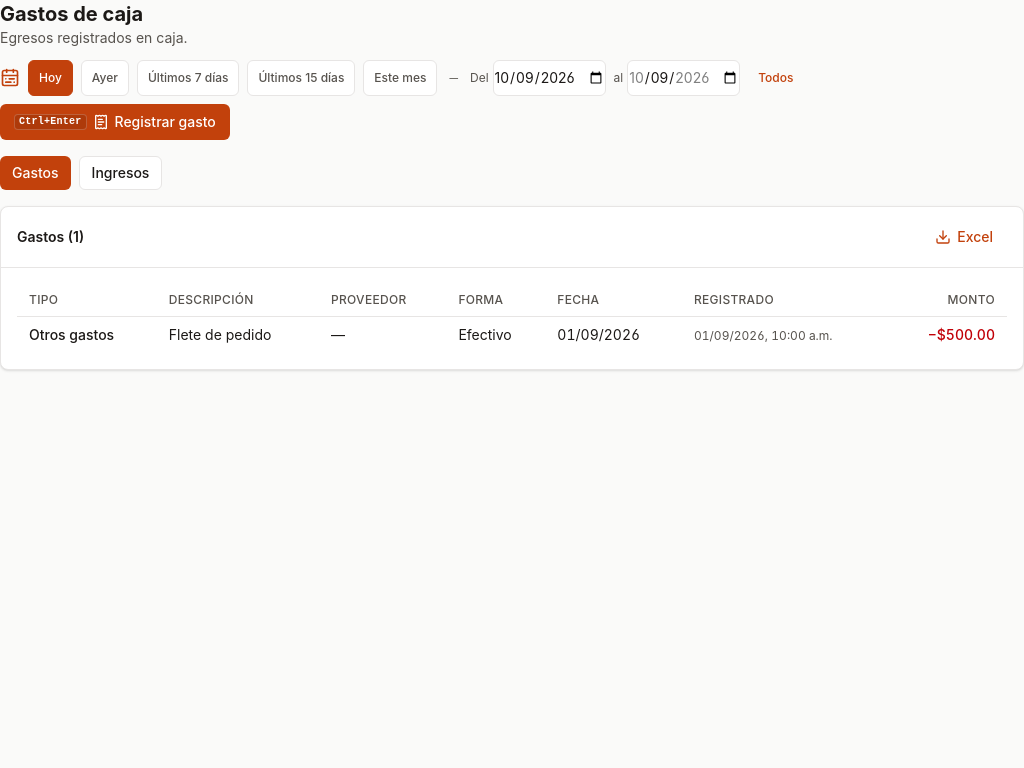
GastosPage (profundización) › valida tipo, monto y descripción del gasto
Expected: the text "Flete de pedido" is shown, [169, 326, 272, 343]
Click the button "Ctrl+Enter Registrar gasto". click: (115, 122)
box: [0, 104, 230, 140]
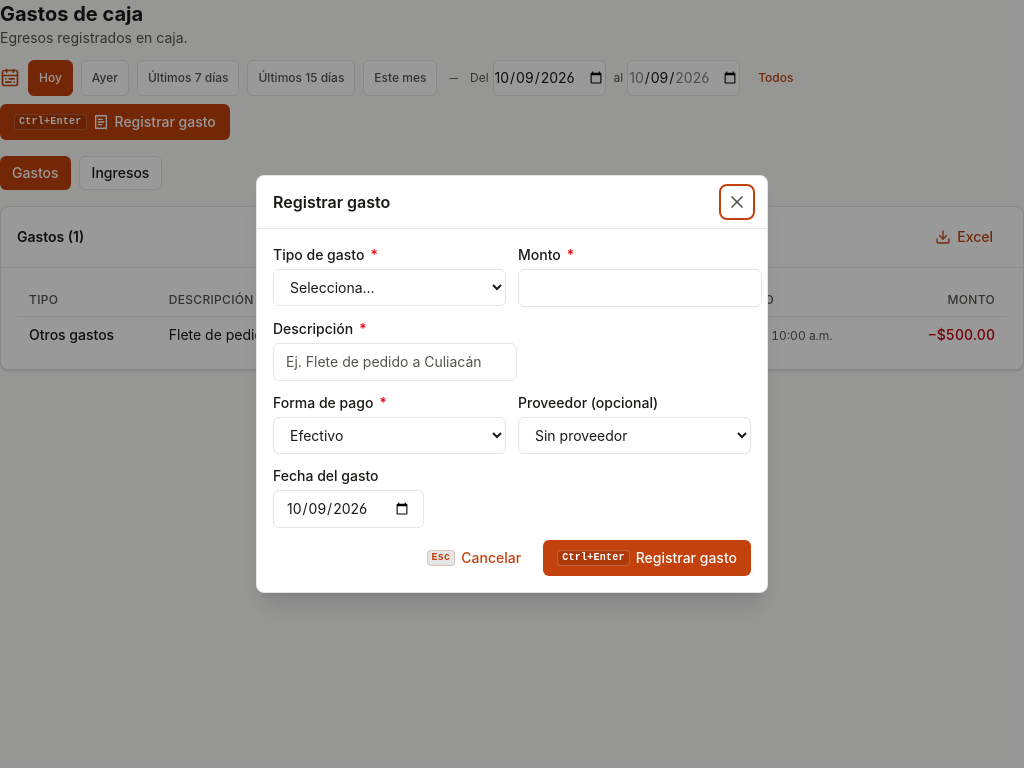
Click the button "Ctrl+Enter Registrar gasto". click: (647, 558)
box: [543, 540, 751, 576]
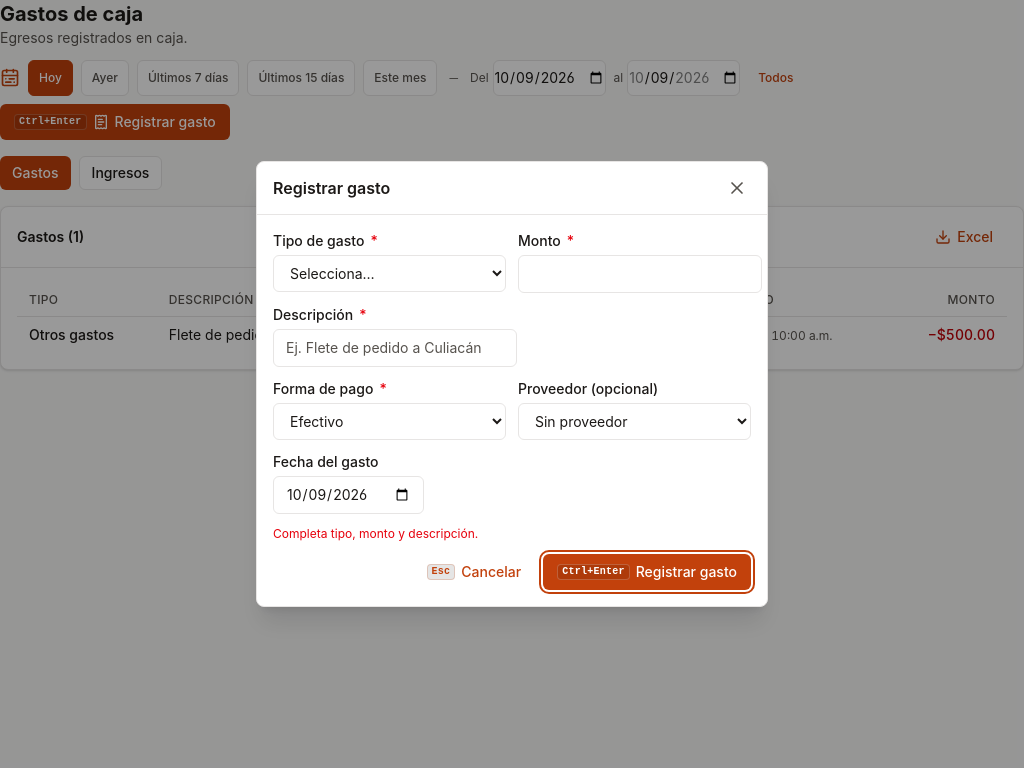
Result: the text "Completa tipo, monto y descripción." is shown at [273, 526, 478, 541]
